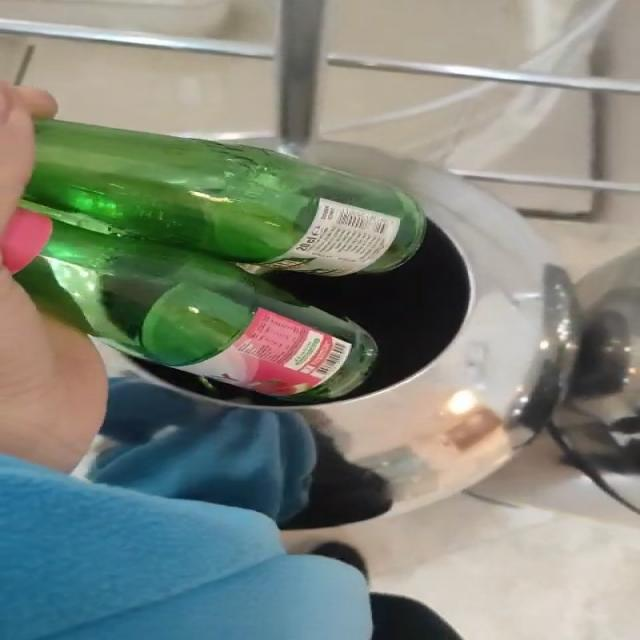glass: (15, 120, 425, 400)
